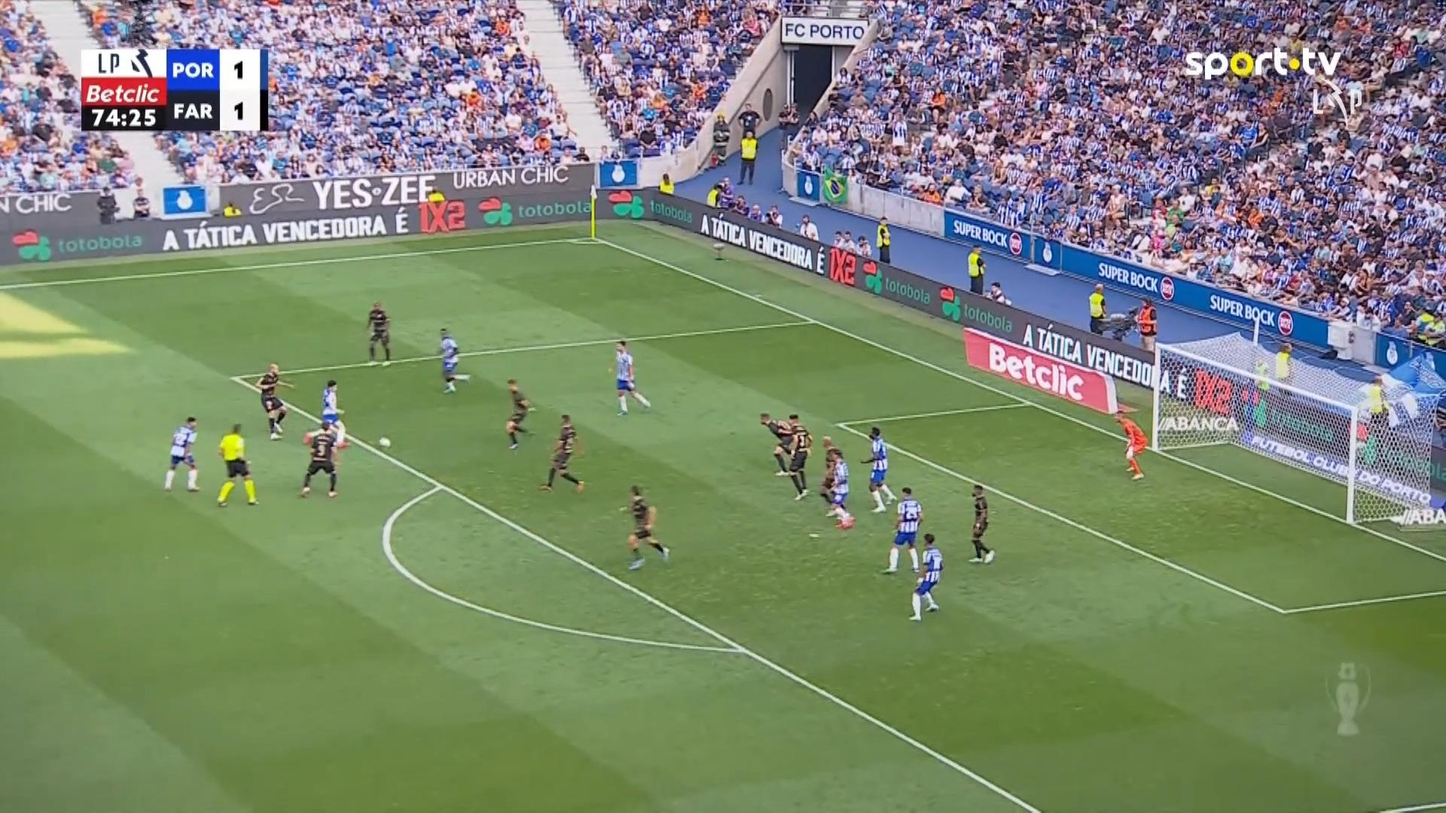ball: (378, 436, 389, 447)
goalkeeper: (1113, 406, 1147, 480)
player: (619, 483, 670, 570), (881, 486, 924, 574), (538, 413, 585, 493), (298, 419, 345, 498), (859, 425, 897, 513), (908, 532, 944, 621), (610, 340, 651, 416), (256, 362, 295, 440), (163, 416, 200, 492), (781, 419, 812, 501), (760, 411, 798, 477), (967, 483, 995, 564), (820, 446, 850, 520), (504, 378, 534, 450), (438, 327, 470, 393), (320, 379, 347, 447), (365, 300, 391, 367)
referee: (215, 422, 259, 507)
